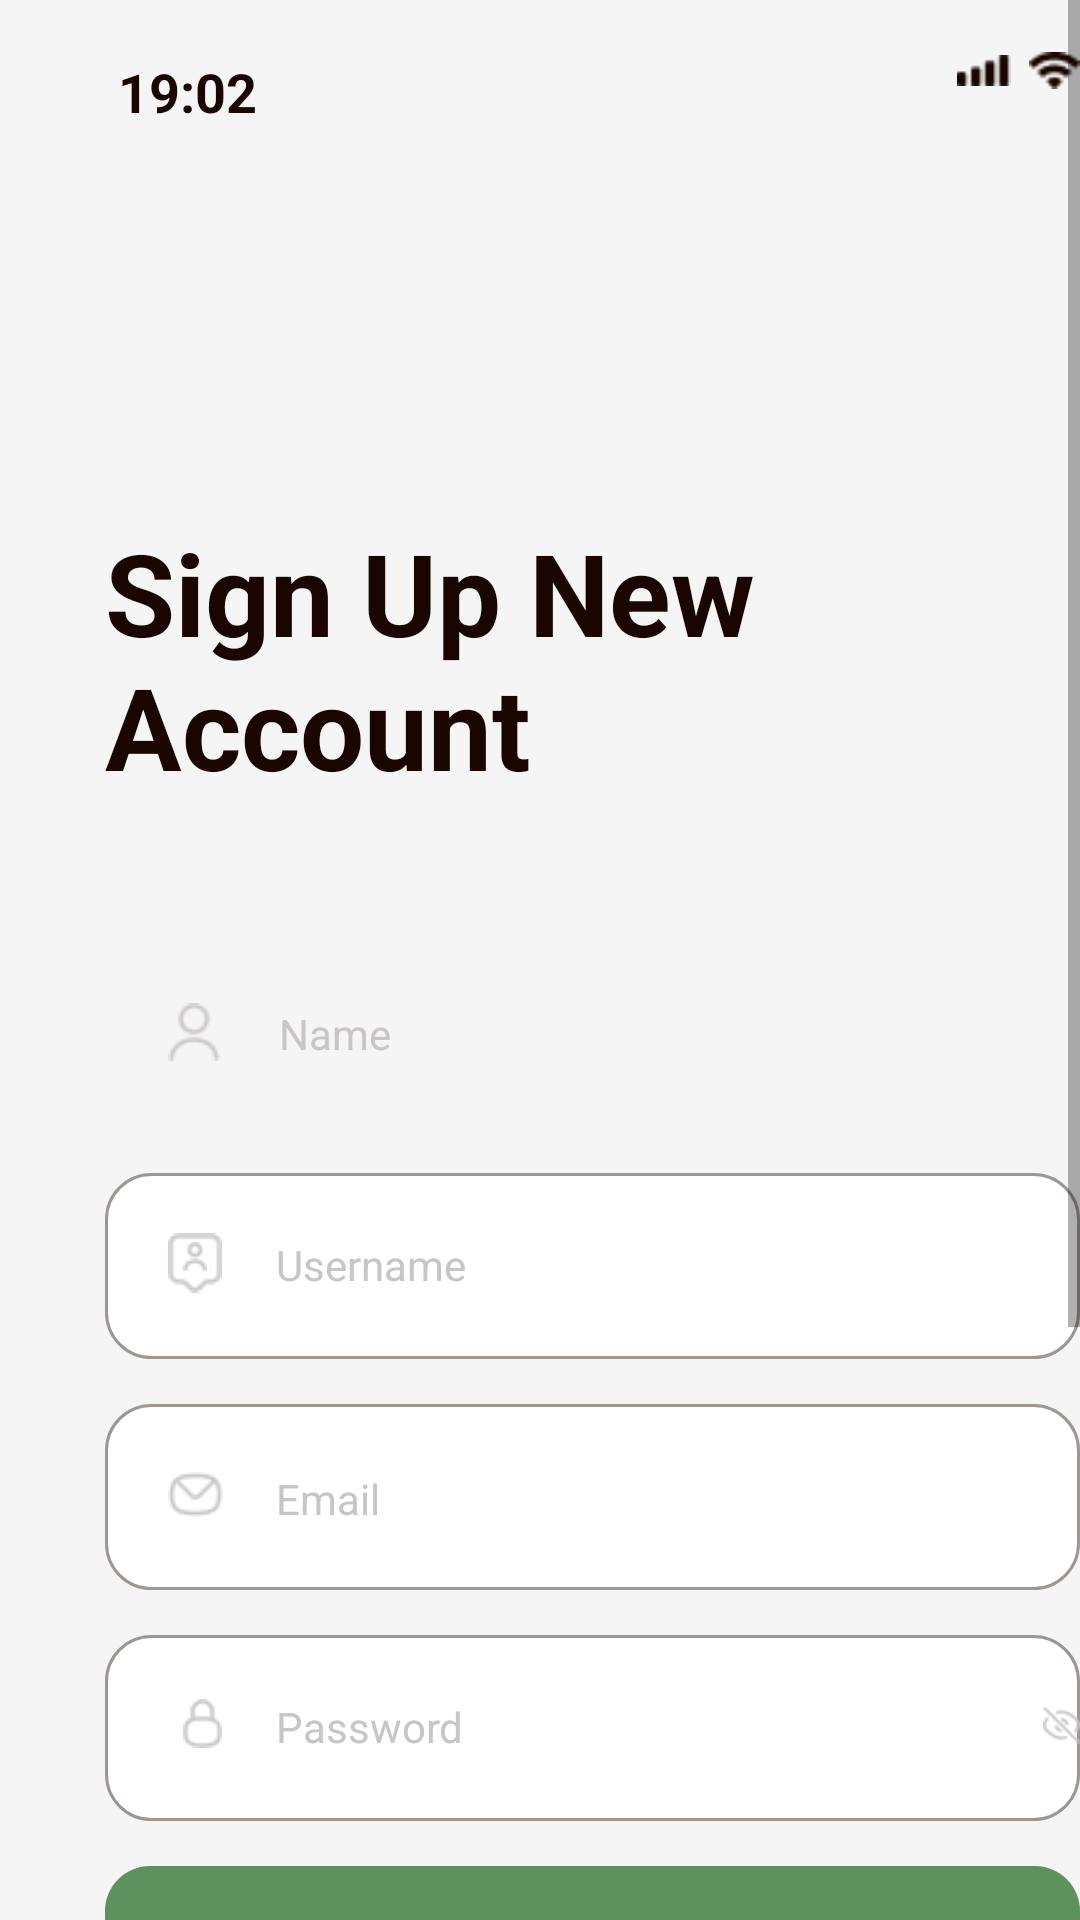

Icons on this 1080 × 1920 Android screen, each with the point to tap as [x,y]:
reception: [984,70]
wifi: [1054,70]
